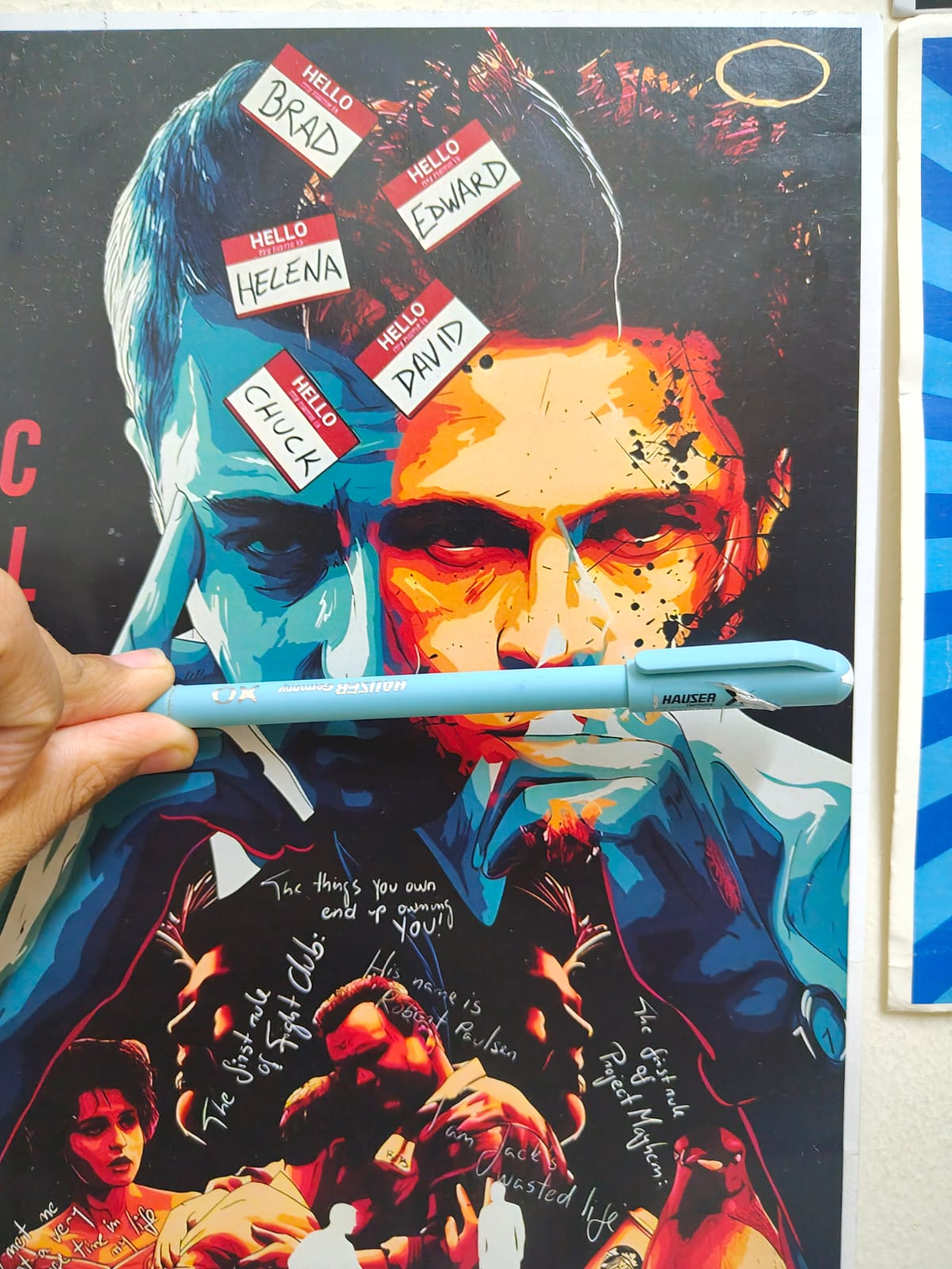pen: (150, 606, 868, 771)
